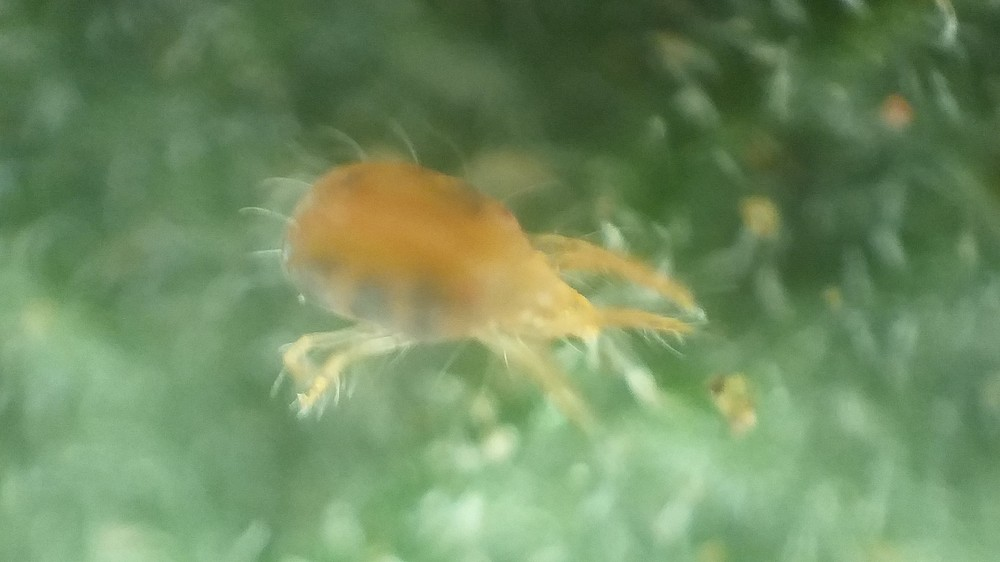Aracnido Rojo: (215, 114, 721, 472)
